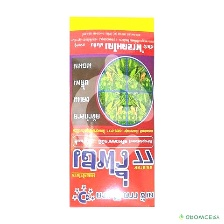insecticide: (66, 28, 156, 210)
